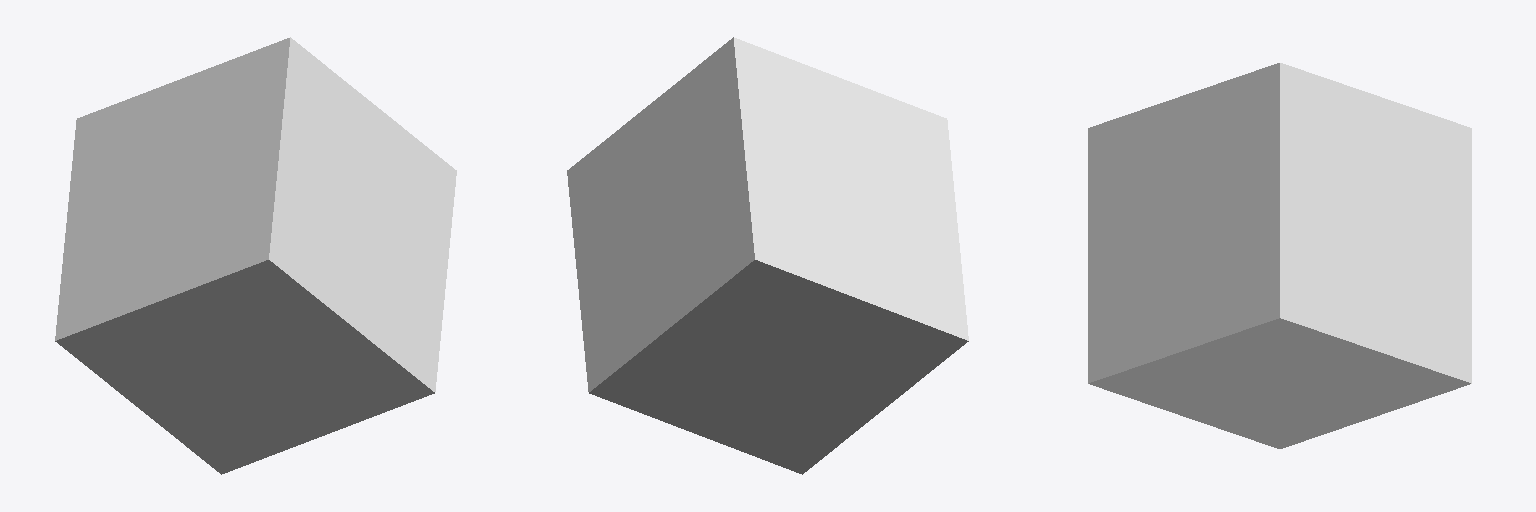
3 renders of one model, left to right at view 1: azimuth 30°, elevation 25°; view 2: azimuth 150°, elevation 25°; view 3: azimuth 270°, elevation 25°, orthographic.
Visible parts, largest first — view 1: CraneIFS_001; view 2: CraneIFS_001; view 3: CraneIFS_001.
Boxes of the visible parts, box(x1,y1,x2,y2) form: CraneIFS_001: box(55, 37, 456, 474); CraneIFS_001: box(567, 37, 968, 474); CraneIFS_001: box(1088, 63, 1471, 448).
Bounding box in the file's own units: 2.56 × 2.56 × 2.12.